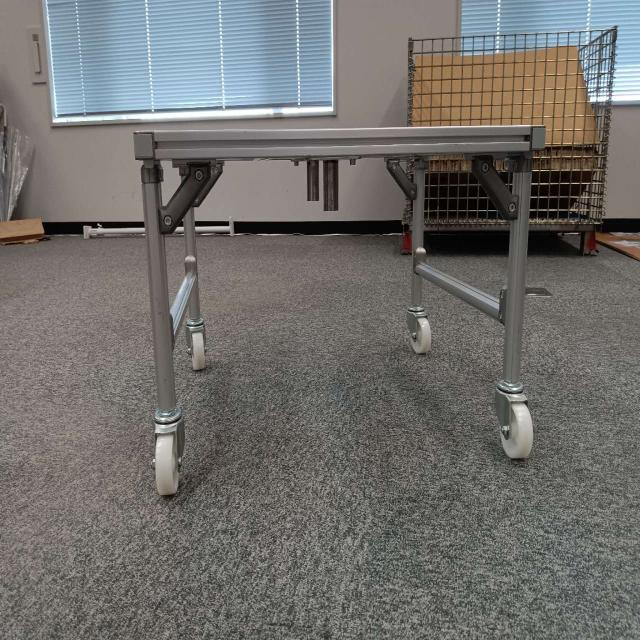door: (140, 124, 532, 231)
